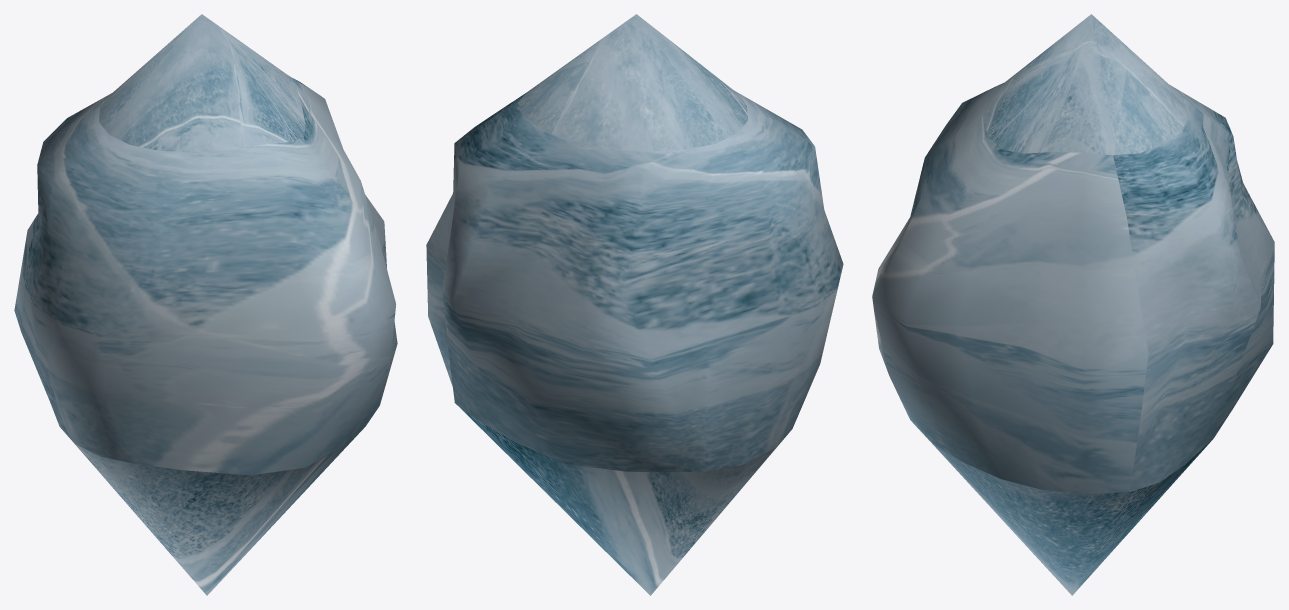
The model's file is iceberg.fbx.
3 views of the same model, side by side, from view 1: azimuth 30°, elevation 25°; view 2: azimuth 150°, elevation 25°; view 3: azimuth 270°, elevation 25° (orthographic). The views are drawn at different scales.
Visible parts, largest first — view 1: pCylinder1; view 2: pCylinder1; view 3: pCylinder1.
Boxes of the visible parts, <box> form: pCylinder1: <box>14,14,397,595</box>; pCylinder1: <box>426,14,843,595</box>; pCylinder1: <box>872,14,1274,595</box>.
Bounding box in the file's own units: 5.23 × 8.07 × 5.04.
Materials: 1 (1 with a texture image).
